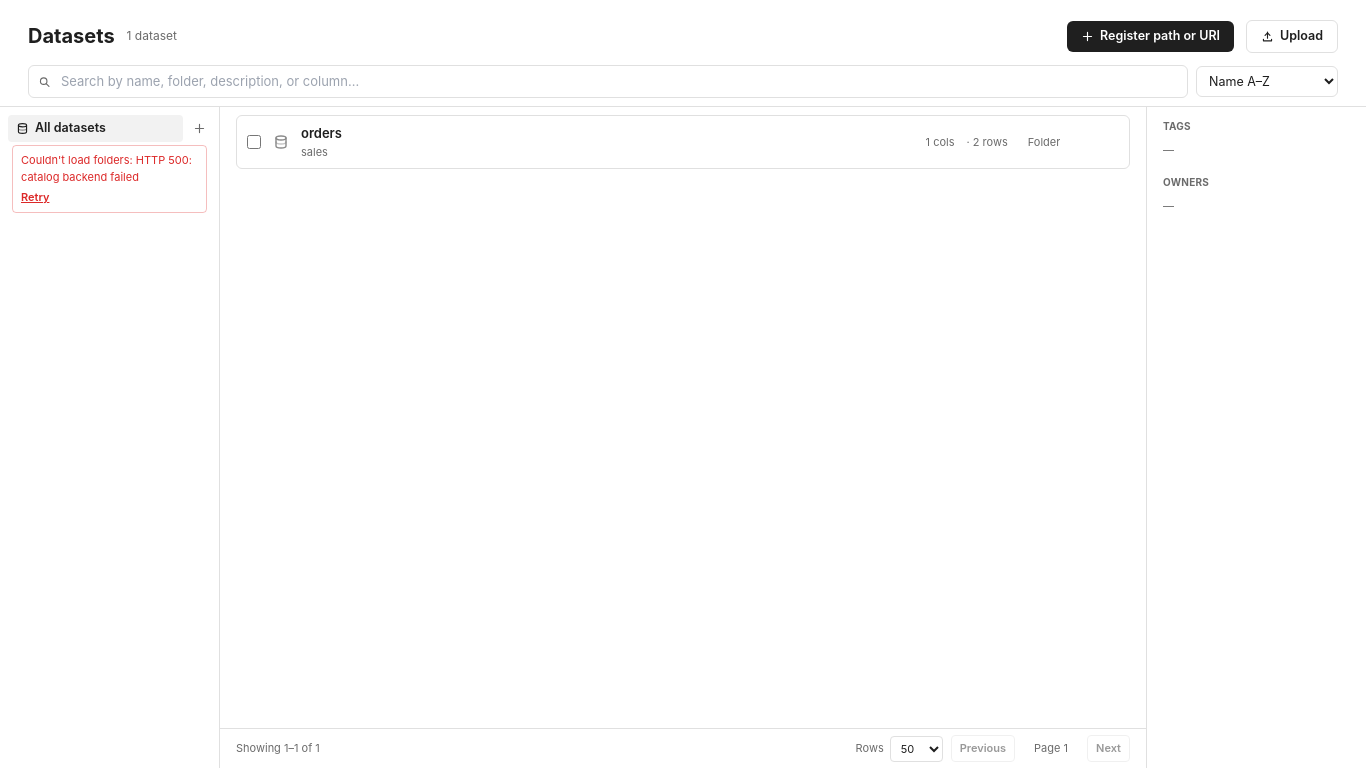
Test: Catalog discovery request and mutation truth › shows a 5xx folder-tree failure as an error and retries instead of claiming there are no folders
expect the text "Couldn't load folders: HTTP 500: catalog backend failed" is shown: met, box [21,152,198,185]
Click the button with test id "folder-tree-retry": (35, 197) [21,189,49,206]
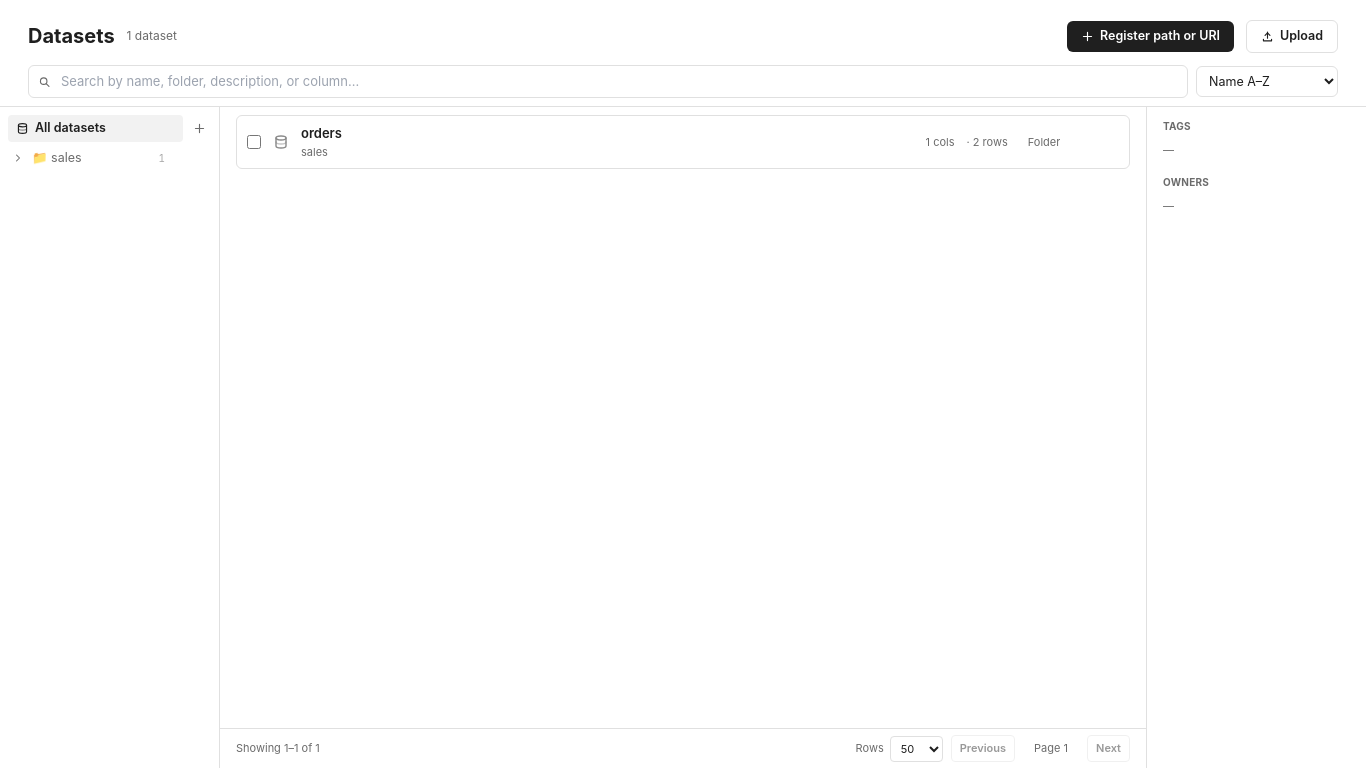
Click the button named "Expand folder sales": (18, 158) [8,146,28,170]
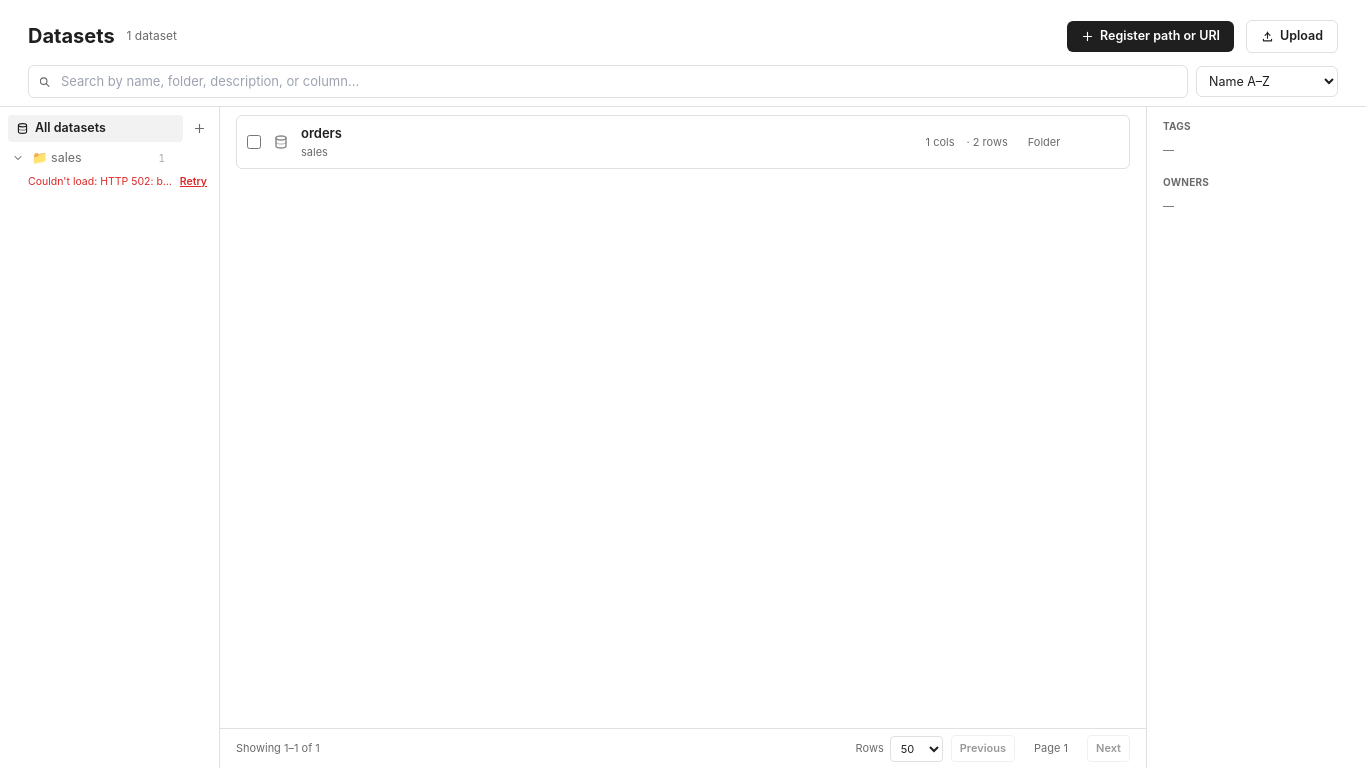
expect the text "Couldn't load: HTTP 502: branch failed" is shown: met, box [28,174,176,190]
Click the button with test id "folder-branch-retry-sales": (193, 182) [180,174,207,190]
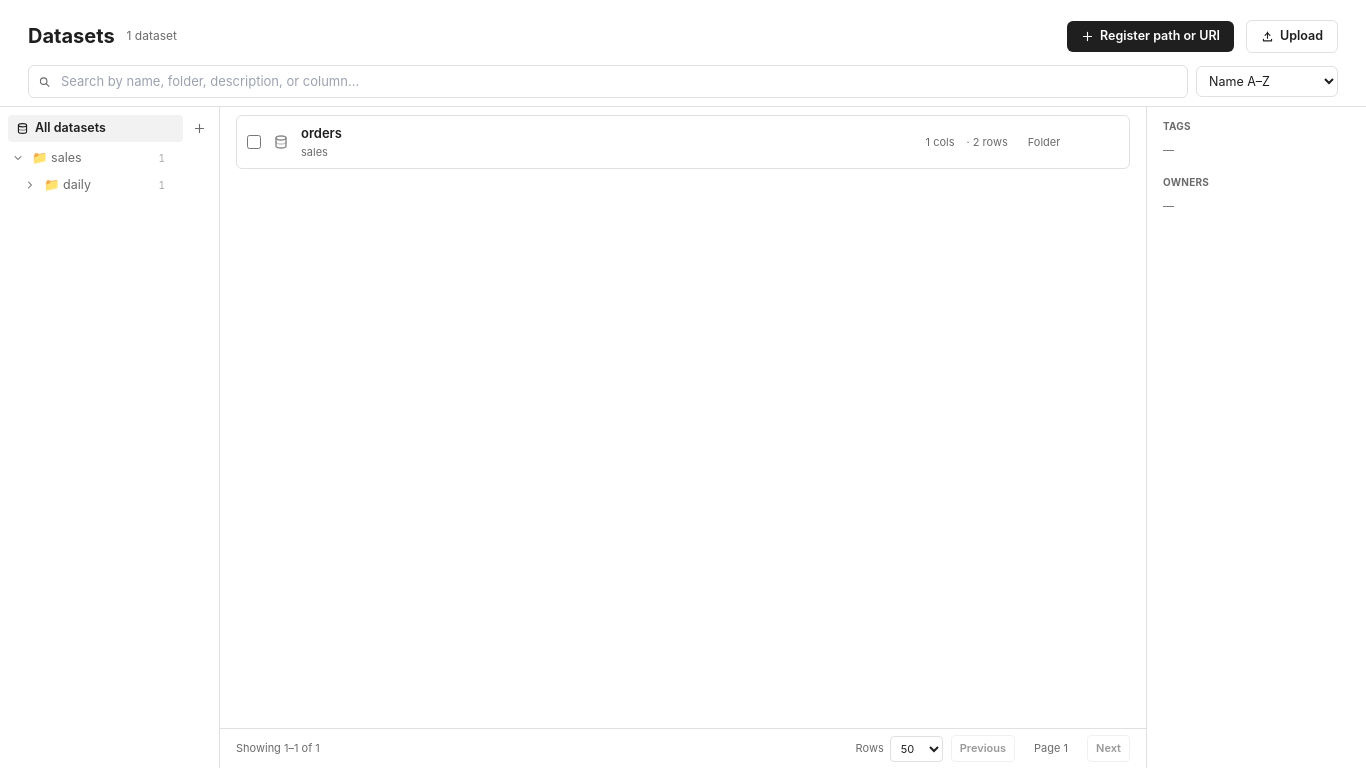
expect the text "📁 daily" is shown: met, box [44,176,91,195]
